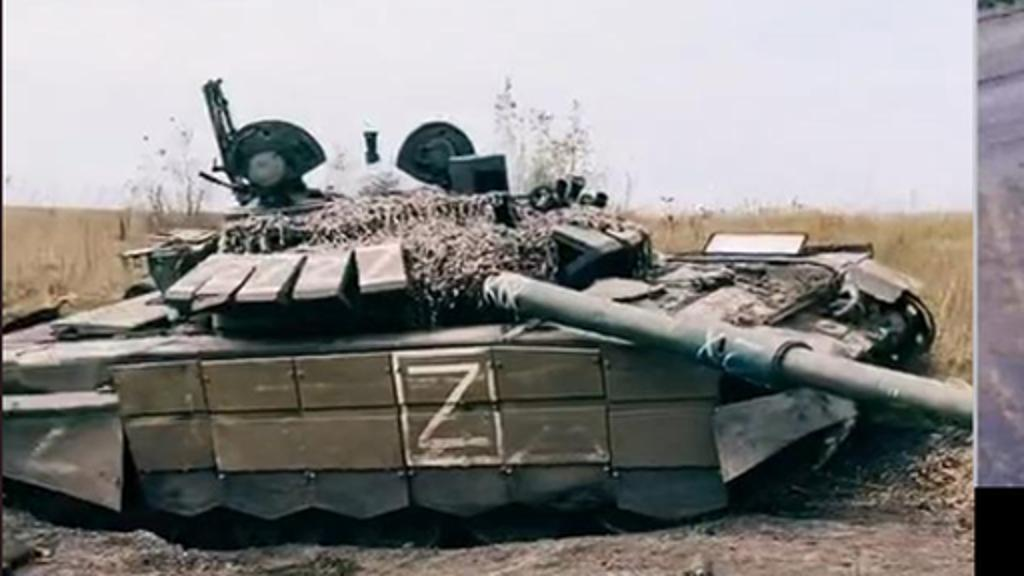TANK: (2, 116, 968, 542)
